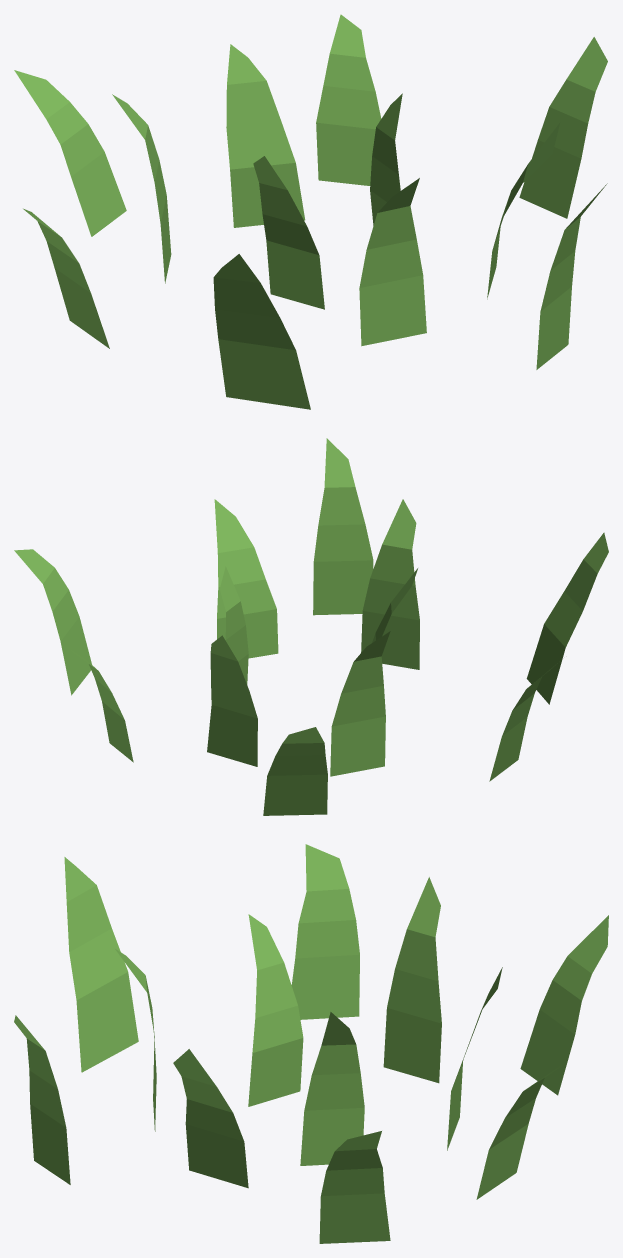
File: weeds short.fbx
3 views of the same model, one above another, from view 1: azimuth 30°, elevation 25°; view 2: azimuth 150°, elevation 25°; view 3: azimuth 270°, elevation 25° (orthographic). The views are drawn at different scales.
Parts seen in each view (by area): view 1: Plane.005; view 2: Plane.005; view 3: Plane.005.
Boxes of the visible parts, x1,y1,x2,y2 form: Plane.005: (14, 14, 607, 409); Plane.005: (14, 438, 608, 815); Plane.005: (14, 844, 608, 1243).
Size of the model in its own units: 3.92 by 3.44 by 1.19.
Materials: 1 (1 with a texture image).
